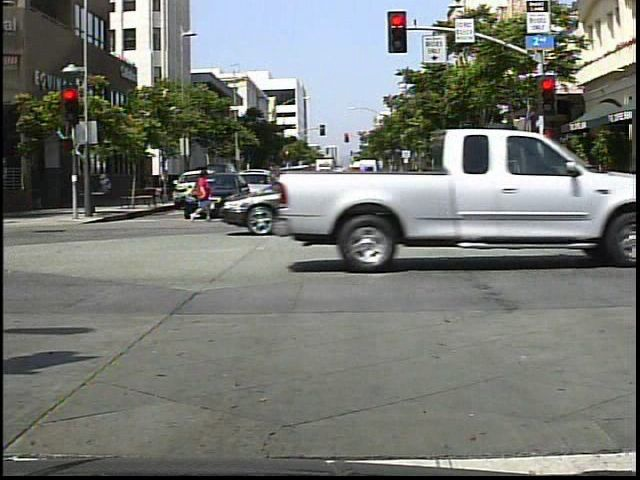person: (360, 163, 395, 232), (411, 161, 442, 225), (184, 167, 217, 227), (570, 157, 592, 206)
